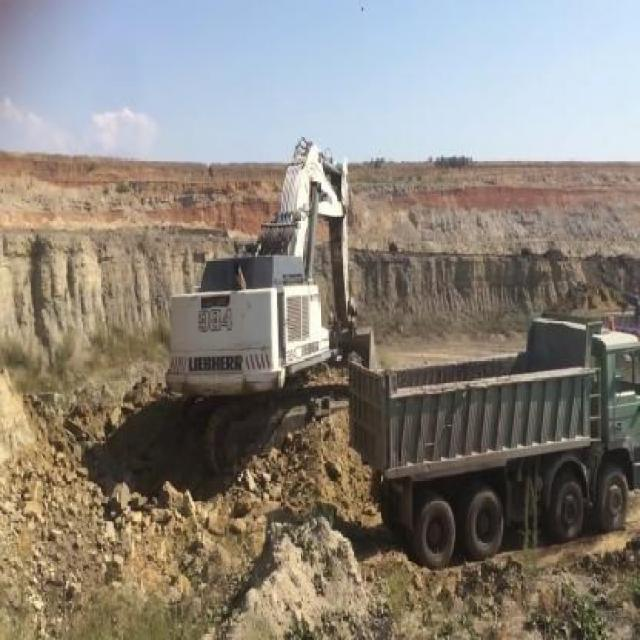Dump Truck: (346, 310, 640, 576)
Excavator: (164, 133, 376, 424)
